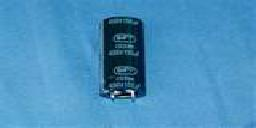Electrolytic Capacitor: (96, 9, 153, 119)
